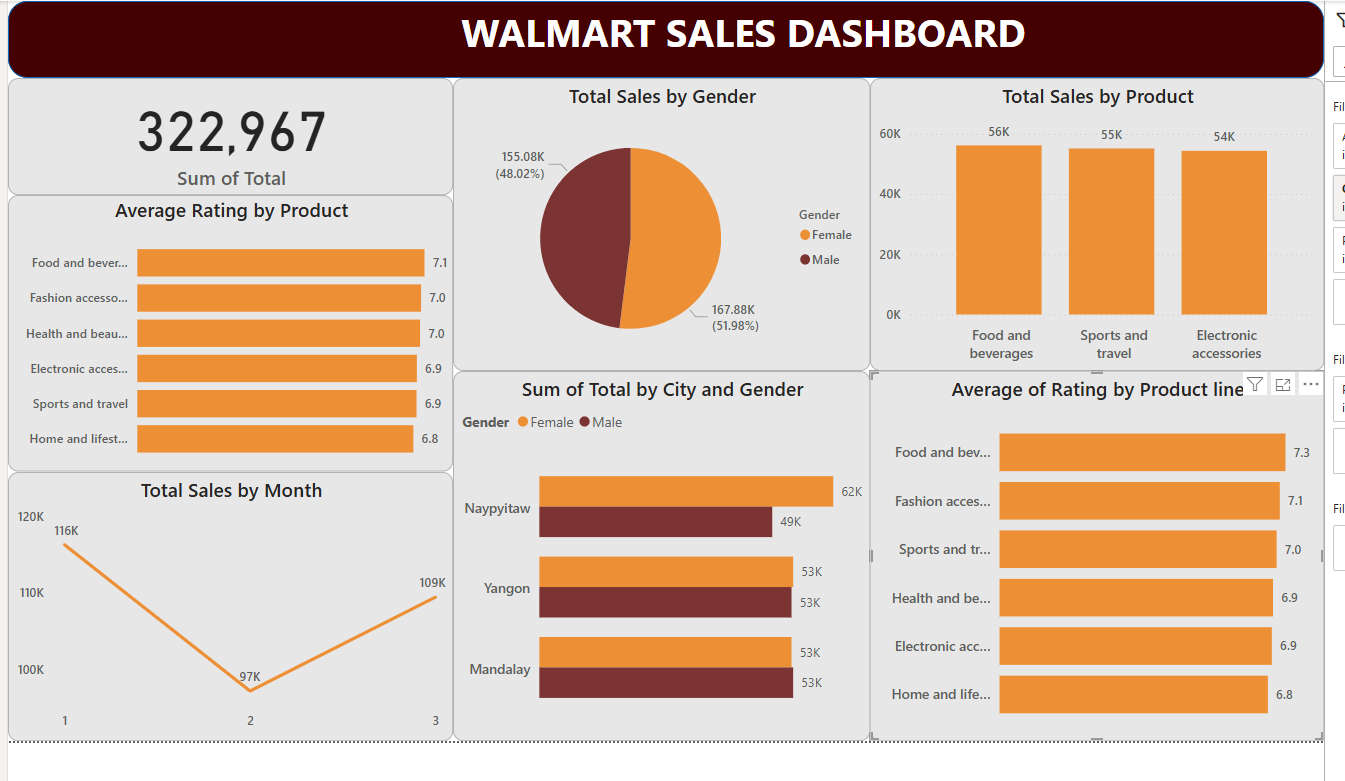

The dashboard page shown, as its layout file describes it:
{"tool":"powerbi","page":{"name":"Page 1","canvas":[1280,720],"ordinal":0},"visuals":[{"type":"card","fields":{"Values":["Sum(WalmartSalesData csv.Total)"]},"box":[0,74.9,432.8,113.8],"z":0},{"type":"pieChart","title":"Total Sales by Gender","fields":{"Y":["Sum(WalmartSalesData csv.Total)"],"Category":["WalmartSalesData csv.Gender"]},"box":[432.8,74.9,405.6,285],"z":1000},{"type":"columnChart","title":"Total Sales by Product","fields":{"Y":["Sum(WalmartSalesData csv.Total)"],"Category":["WalmartSalesData csv.Product line"]},"box":[838.4,74.9,441.6,285],"z":2000},{"type":"barChart","title":"Average Rating by Product","fields":{"Category":["WalmartSalesData csv.Product line"],"Y":["Avg(WalmartSalesData csv.Rating)"]},"box":[0,188.7,432.8,269.4],"z":3000},{"type":"lineChart","title":"Total Sales by Month","fields":{"Y":["Sum(WalmartSalesData csv.Total)"],"Category":["WalmartSalesData csv.Month"]},"box":[0,458.1,432.8,261.6],"z":4000},{"type":"clusteredBarChart","fields":{"Y":["Sum(WalmartSalesData csv.Total)"],"Category":["WalmartSalesData csv.City"],"Series":["WalmartSalesData csv.Gender"]},"box":[432.8,359.9,405.6,359.9],"z":5000},{"type":"barChart","fields":{"Y":["Avg(WalmartSalesData csv.Rating)"],"Category":["WalmartSalesData csv.Product line"]},"box":[838.4,359.9,441.6,359.9],"z":6000},{"type":"shape","box":[0,0,1280,74.9],"z":7000},{"type":"textbox","box":[435.7,0,569,67.1],"z":8000}]}

Visuals, with their boxes in screenshot pixels (x1, y1, x2, y2):
card - Sum(WalmartSalesData csv.Total): bbox(0, 74, 448, 192)
"Total Sales by Gender" pieChart: bbox(448, 74, 869, 369)
"Total Sales by Product" columnChart: bbox(869, 74, 1326, 369)
"Average Rating by Product" barChart: bbox(0, 192, 448, 471)
"Total Sales by Month" lineChart: bbox(0, 471, 448, 742)
clusteredBarChart - Sum(WalmartSalesData csv.Total) x WalmartSalesData csv.City: bbox(448, 369, 869, 742)
barChart - Avg(WalmartSalesData csv.Rating) x WalmartSalesData csv.Product line: bbox(869, 369, 1326, 742)
shape: bbox(0, 0, 1326, 74)
textbox: bbox(451, 0, 1041, 66)
